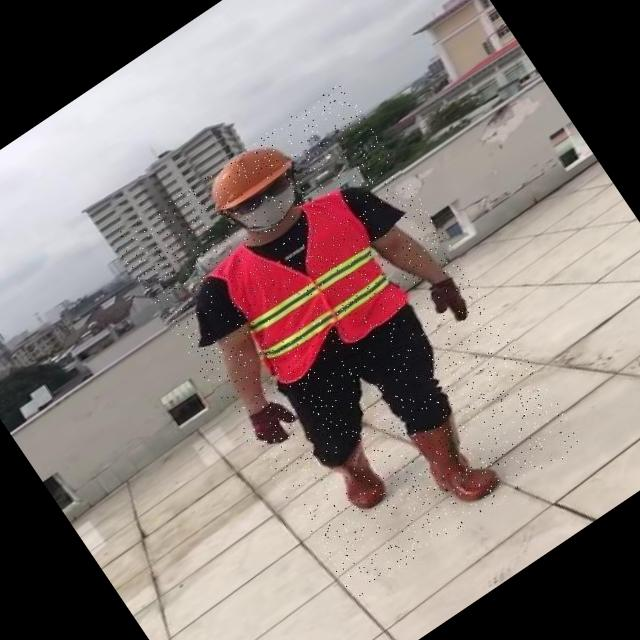hard_hat: (196, 130, 300, 220)
safety_vest: (204, 188, 412, 390)
vehicle: (111, 83, 586, 600)
work_boots: (408, 406, 507, 515), (319, 441, 397, 521)
